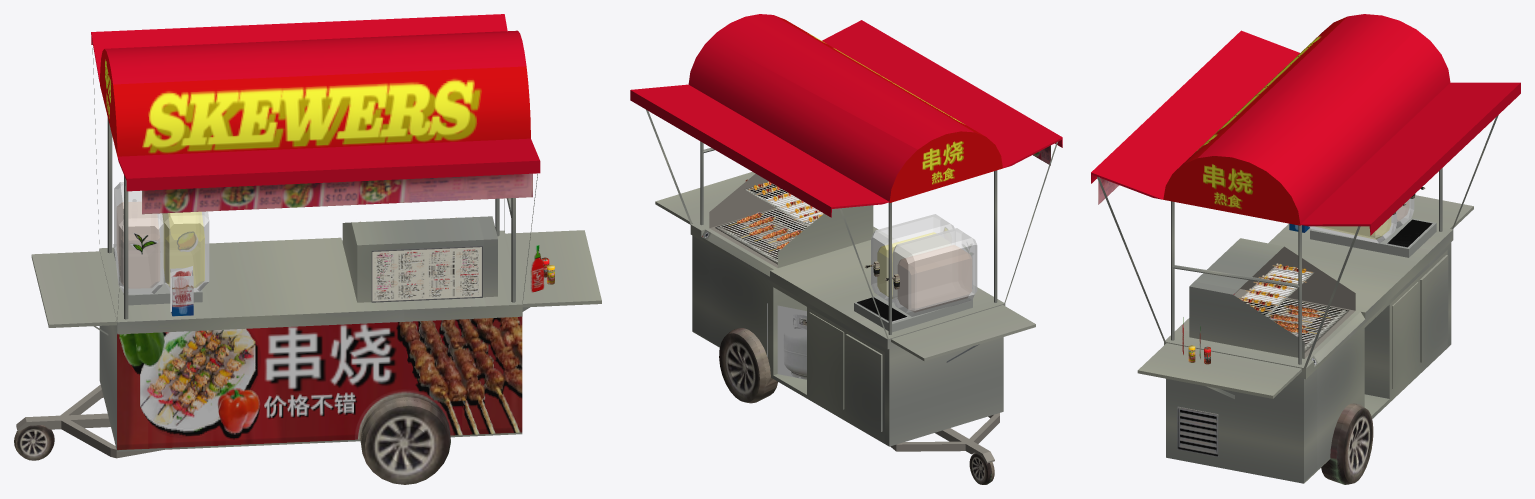
The model's file is chinese_food_cart.glb.
The picture shows the model from 3 angles, left to right: view 1: azimuth 30°, elevation 25°; view 2: azimuth 150°, elevation 25°; view 3: azimuth 270°, elevation 25°; orthographic projection. The views are drawn at different scales.
Parts seen in each view (by area): view 1: Material3 (×7), Material2 (×6); view 2: Material3 (×9), Material2 (×7); view 3: Material3 (×9), Material2 (×6).
Part boxes in pixels (<box>): Material3 (×7): <box>14,14,540,484</box>; Material2 (×6): <box>31,42,601,451</box>; Material3 (×9): <box>630,14,1062,484</box>; Material2 (×7): <box>646,110,1057,446</box>; Material3 (×9): <box>1091,14,1520,484</box>; Material2 (×6): <box>1097,115,1498,483</box>.
Size of the model in its own units: 118 by 90.22 by 99.37.
39 materials, 28 textured.
